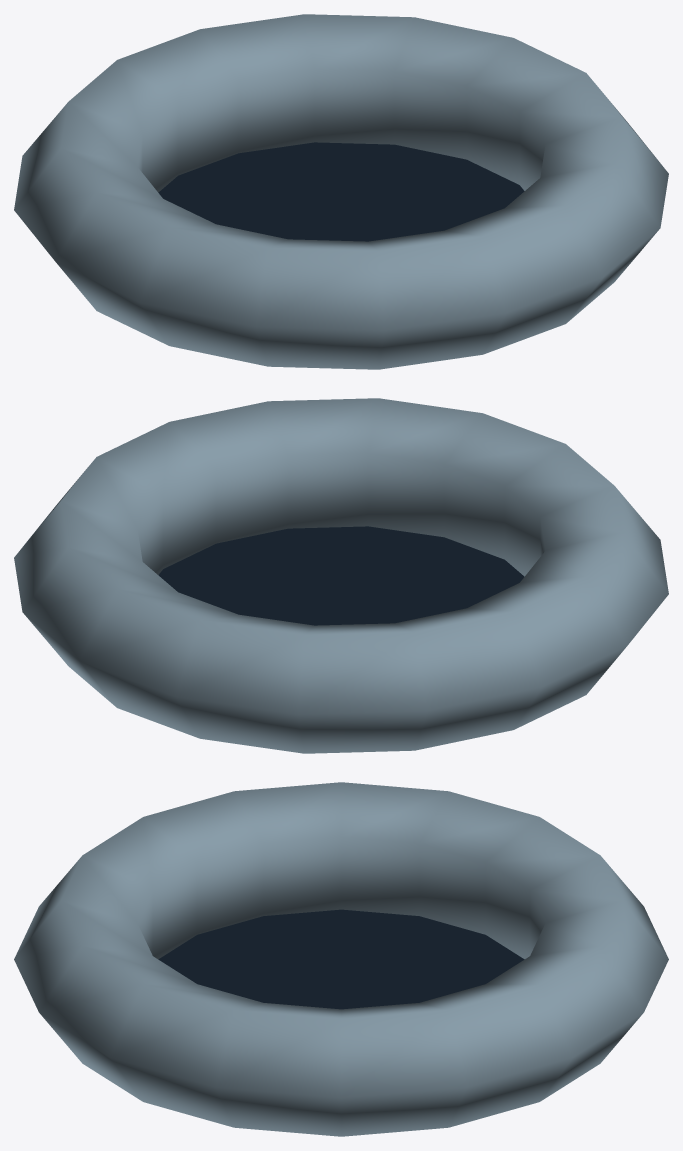
File: crater.glb
3 views of the same model, one above another, from view 1: azimuth 30°, elevation 25°; view 2: azimuth 150°, elevation 25°; view 3: azimuth 270°, elevation 25° (orthographic).
Parts seen in each view (by area): view 1: rim, floor; view 2: rim, floor; view 3: rim, floor.
Part boxes in pixels (bbox=[...]): rim: bbox=[14, 14, 668, 369]; floor: bbox=[158, 142, 524, 241]; rim: bbox=[14, 398, 668, 753]; floor: bbox=[158, 526, 524, 625]; rim: bbox=[14, 782, 668, 1136]; floor: bbox=[158, 909, 524, 1009].
Bounding box in the file's own units: 1.92 × 0.3804 × 1.92.
